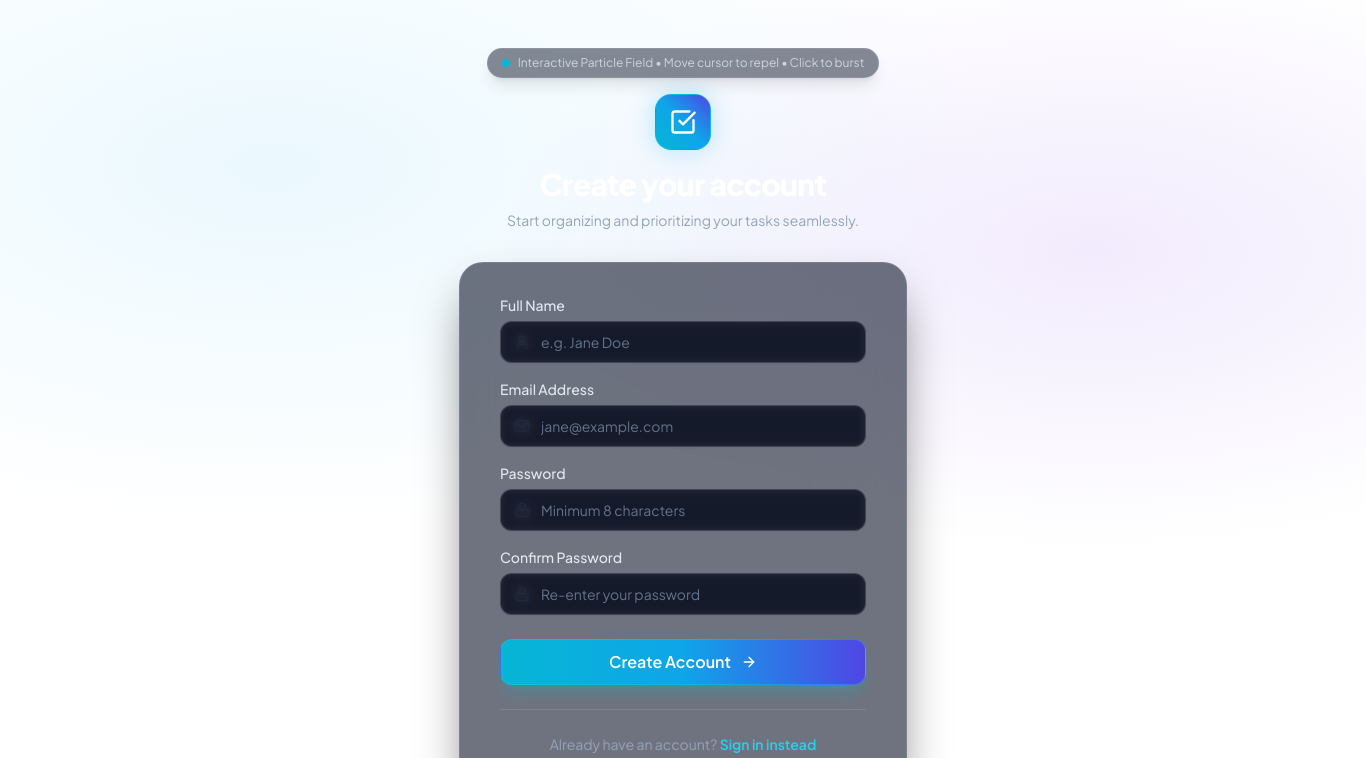
Test case: RegisterPage Component › rejects passwords that do not match confirmation
Type "Alice Doe" into the field labelled "Full Name". click: coordinates (683, 342)
box: [500,321,866,363]
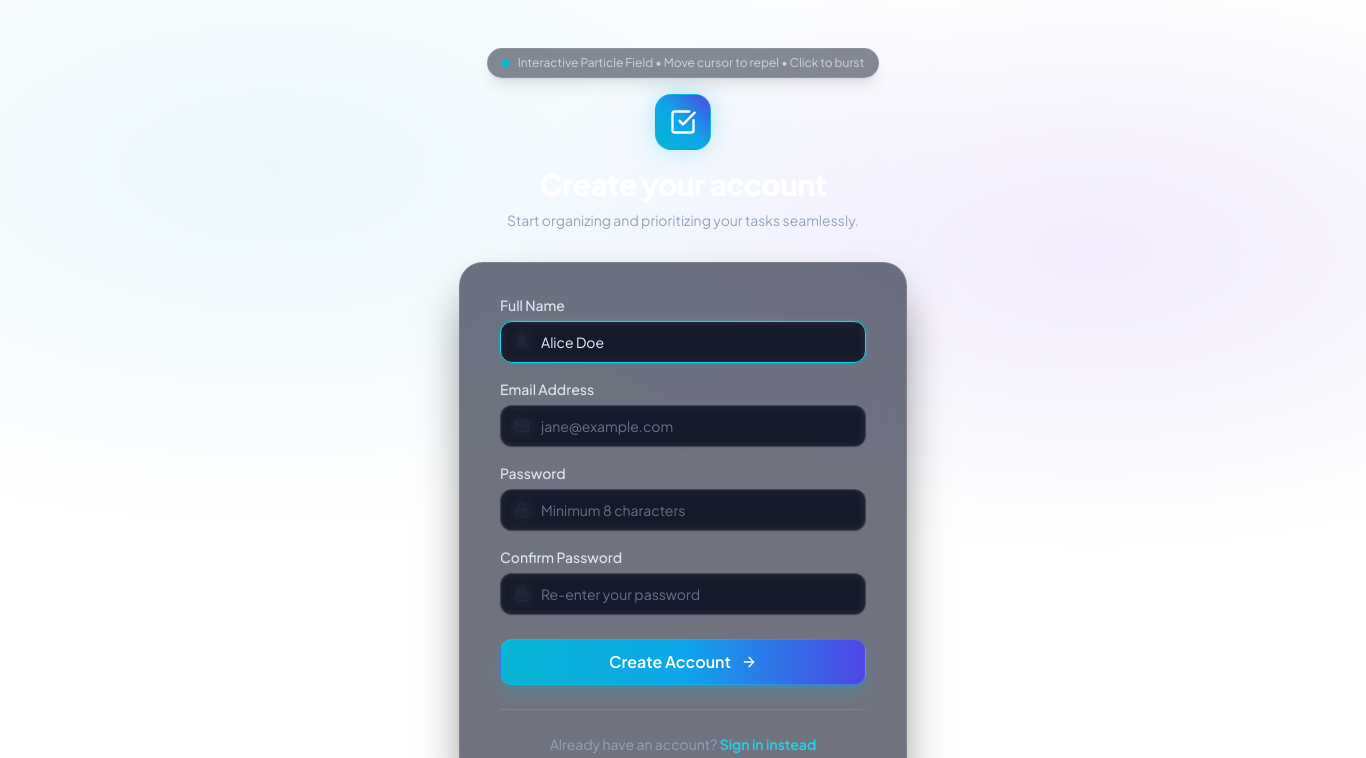
Type "alice@example.com" into the field labelled "Email Address". click: coordinates (683, 426)
box: [500,405,866,447]
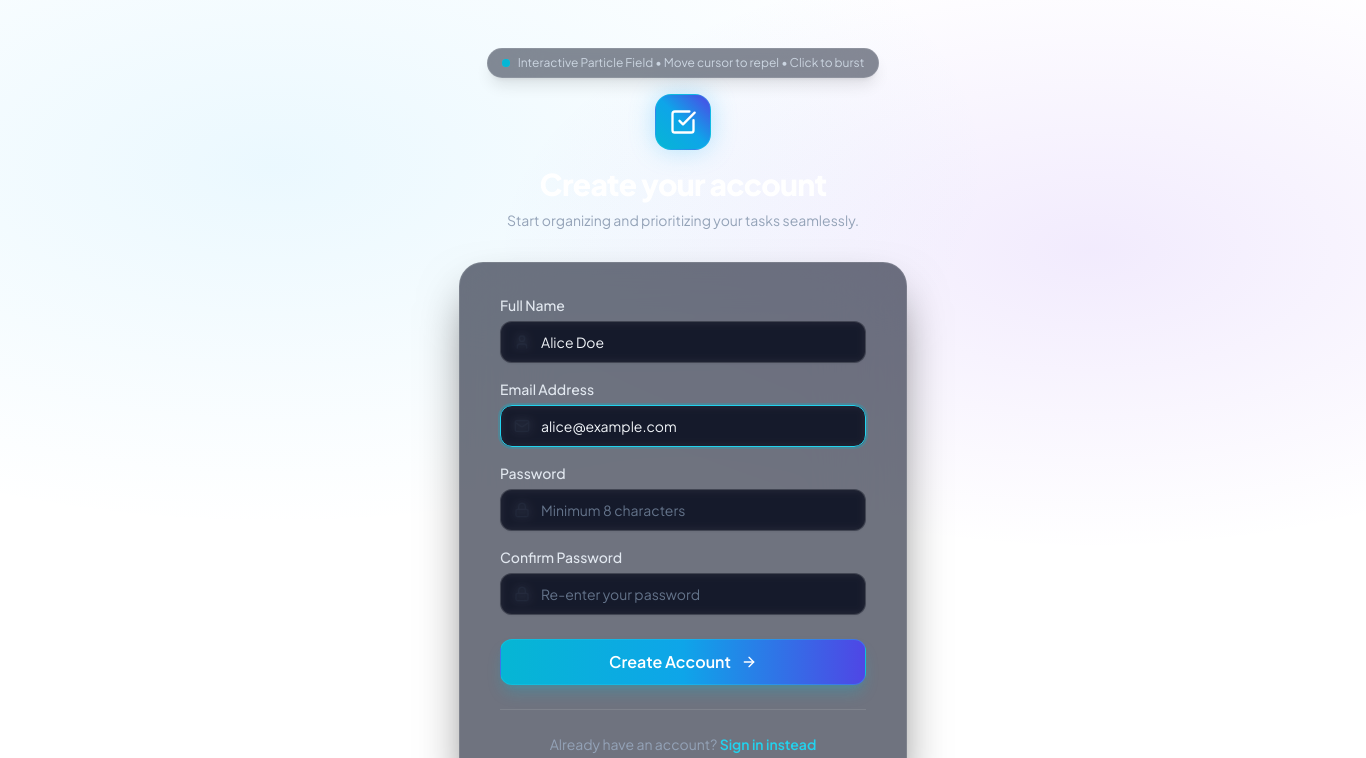
Type "password123" into the password field labelled "Password". click: coordinates (683, 510)
box: [500,489,866,531]
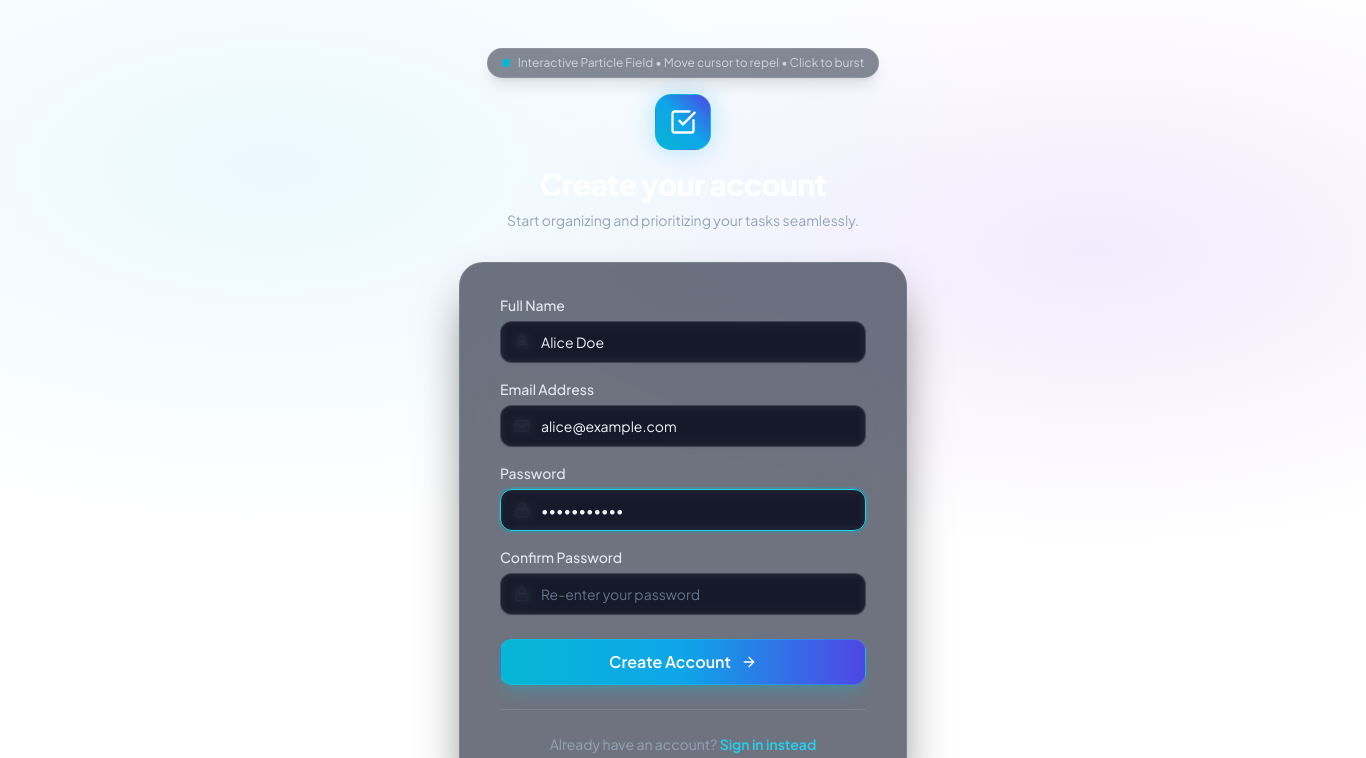
Type "differentPassword" into the password field labelled "Confirm Password". click: coordinates (683, 594)
box: [500,573,866,615]
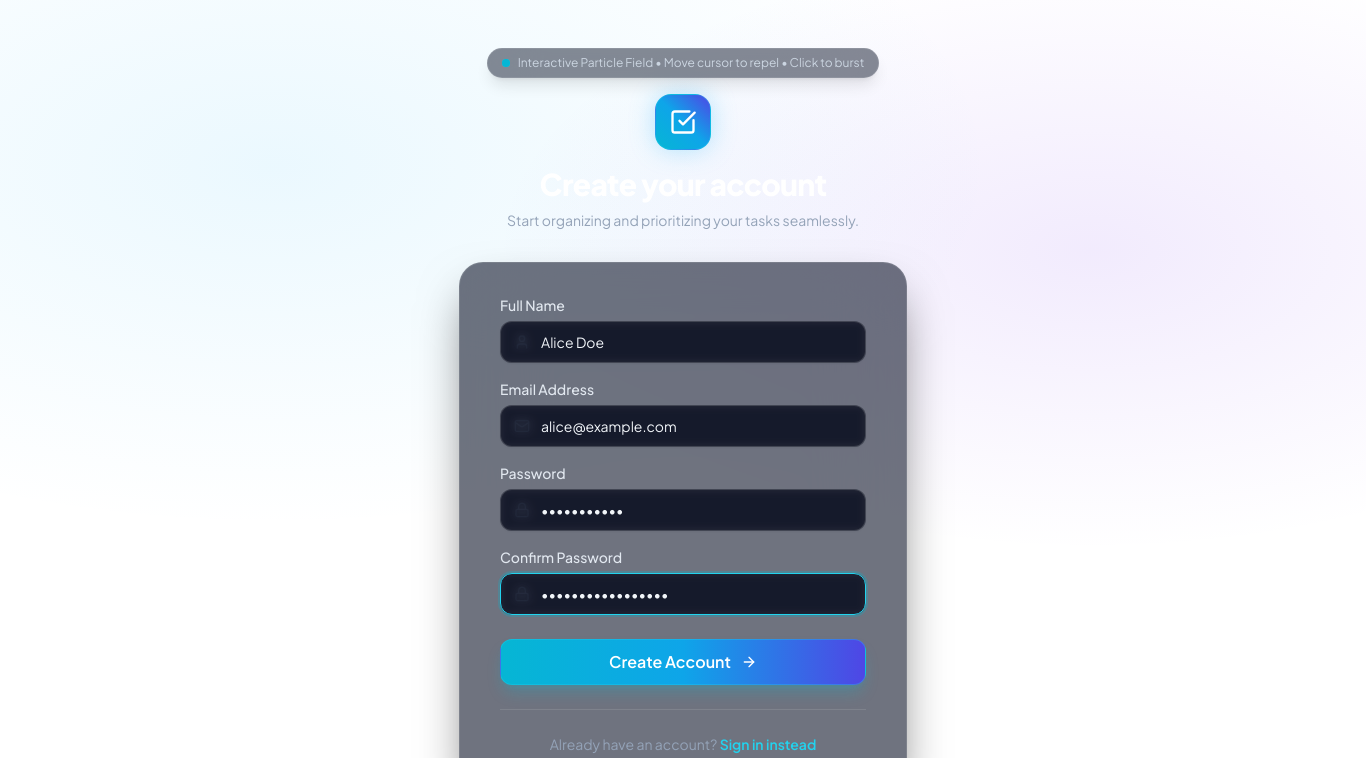
Click the button "Create Account". click: coordinates (683, 662)
box: [500,639,866,685]
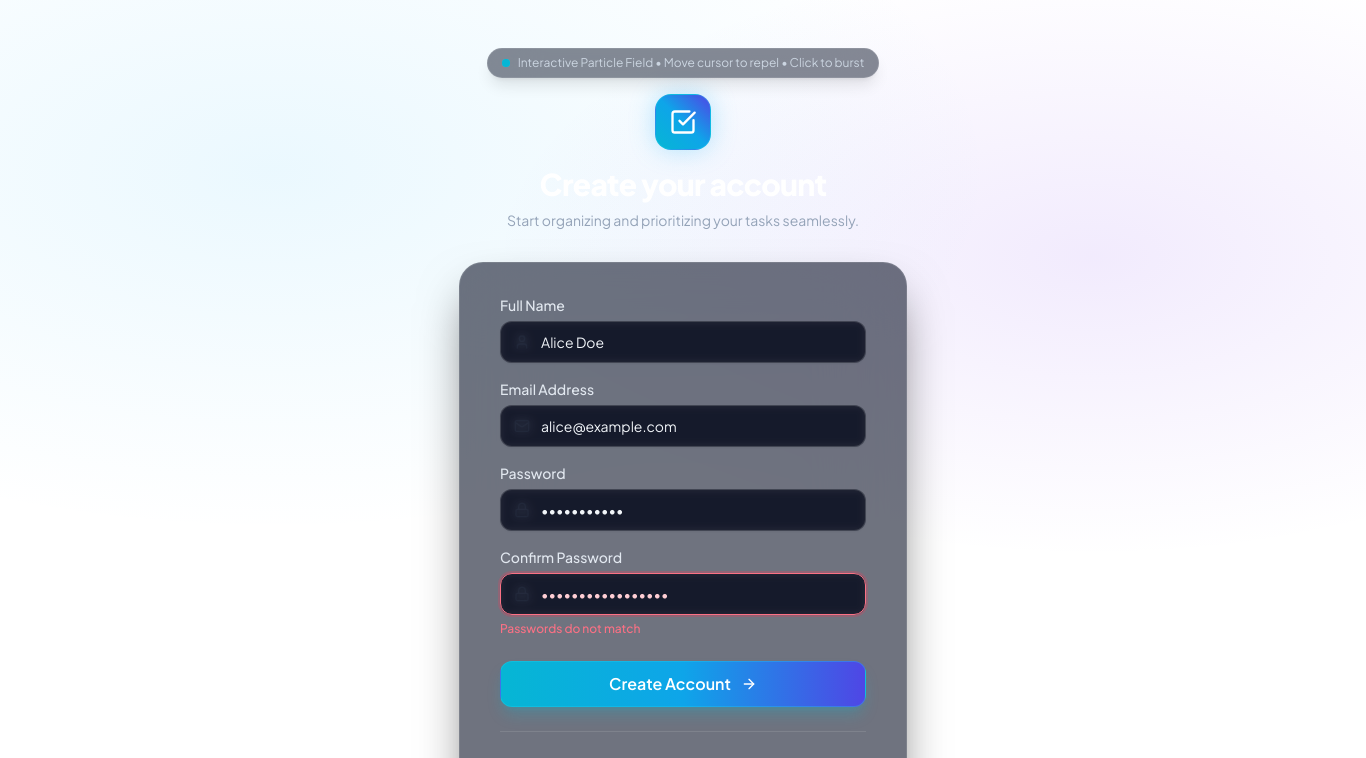
Expected: the text "Passwords do not match" is shown, [500,621,640,636]
